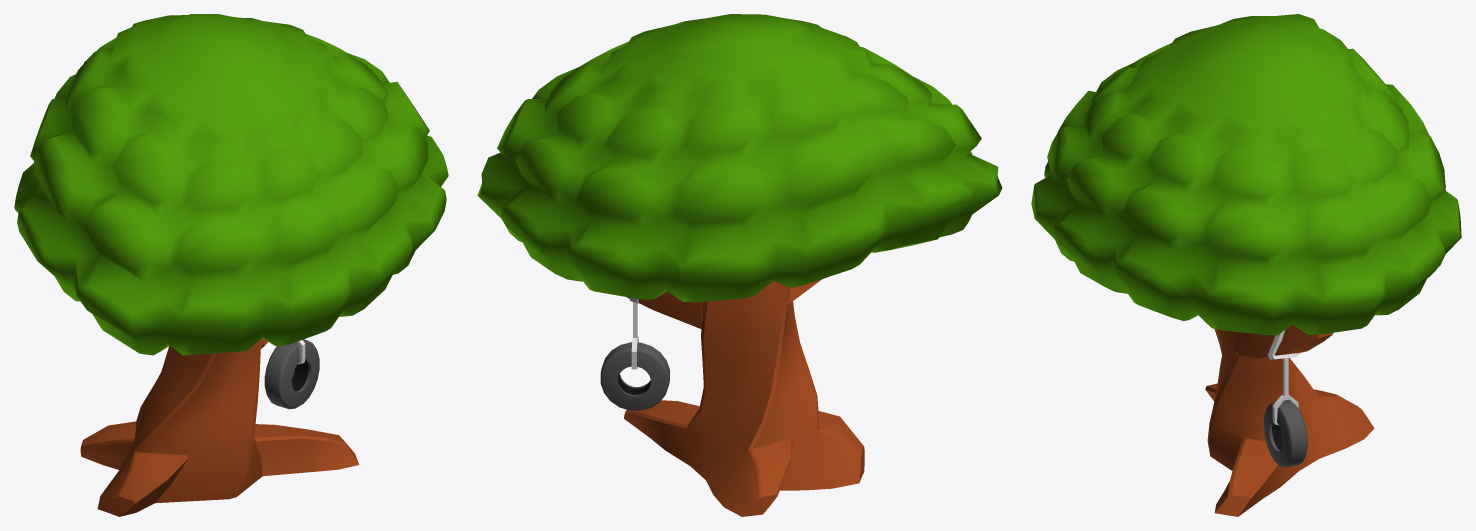
Rendered from tree_big_fun.fbx.
3 views of the same model, side by side, from view 1: azimuth 30°, elevation 25°; view 2: azimuth 150°, elevation 25°; view 3: azimuth 270°, elevation 25° (orthographic). The views are drawn at different scales.
Visible parts, largest first — view 1: canopy; view 2: canopy; view 3: canopy.
Part boxes in pixels (x1,y1,x2,y2): canopy: [14, 14, 448, 516]; canopy: [477, 14, 1002, 516]; canopy: [1031, 14, 1461, 516].
Size of the model in its own units: 1075 by 1065 by 997.
Materials: 1 (1 with a texture image).
